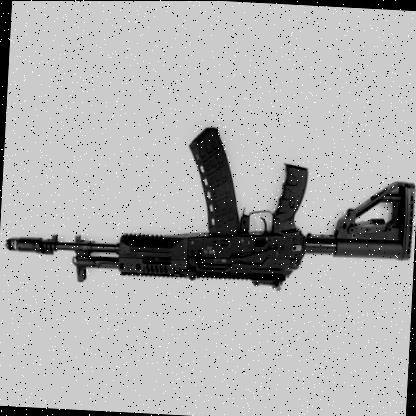rifle: (5, 115, 416, 328)
